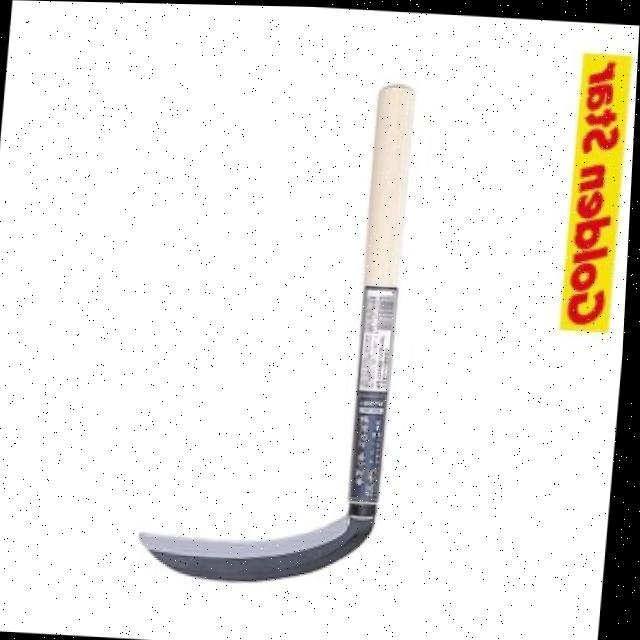sickle: (67, 23, 490, 635)
